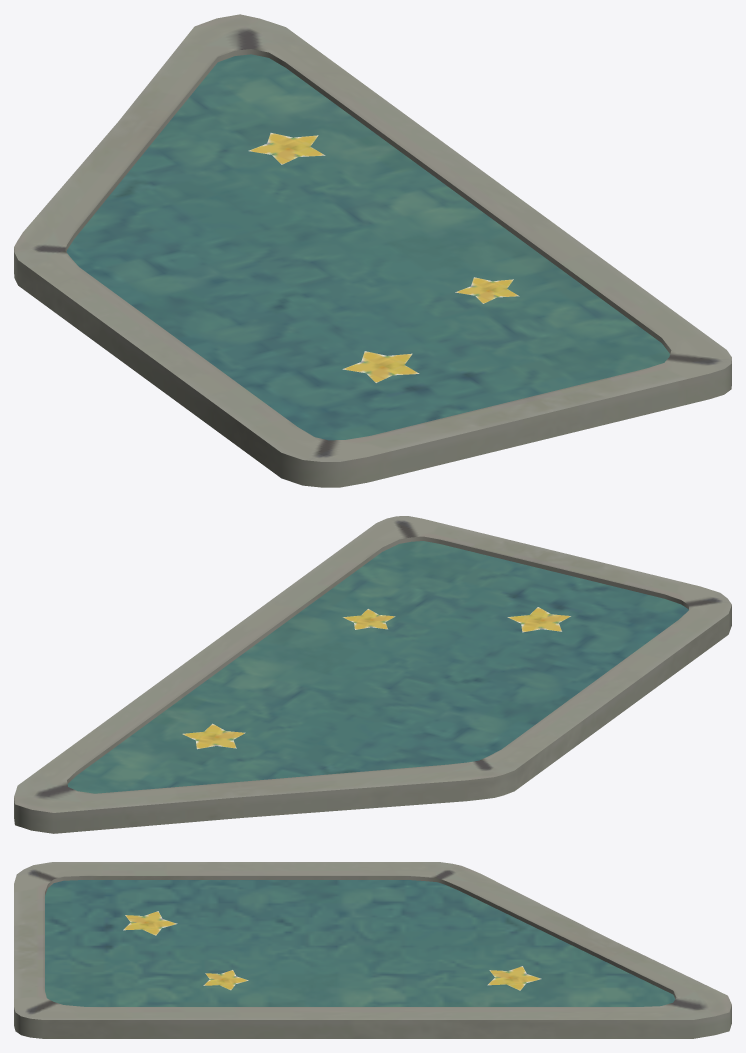
The model's file is pref_sm_city_parterre09a_snow_lv3.fbx.
3 views of the same model, one above another, from view 1: azimuth 30°, elevation 25°; view 2: azimuth 150°, elevation 25°; view 3: azimuth 270°, elevation 25° (orthographic). The views are drawn at different scales.
Parts seen in each view (by area): view 1: pref_sm_city_parterre09a_snow_lv3; view 2: pref_sm_city_parterre09a_snow_lv3; view 3: pref_sm_city_parterre09a_snow_lv3.
Part boxes in pixels (x1=…): pref_sm_city_parterre09a_snow_lv3: x1=14, y1=14, x2=731, y2=487; pref_sm_city_parterre09a_snow_lv3: x1=14, y1=516, x2=731, y2=833; pref_sm_city_parterre09a_snow_lv3: x1=14, y1=862, x2=731, y2=1038.
Bounding box in the file's own units: 2.27 × 0.1266 × 4.36.
